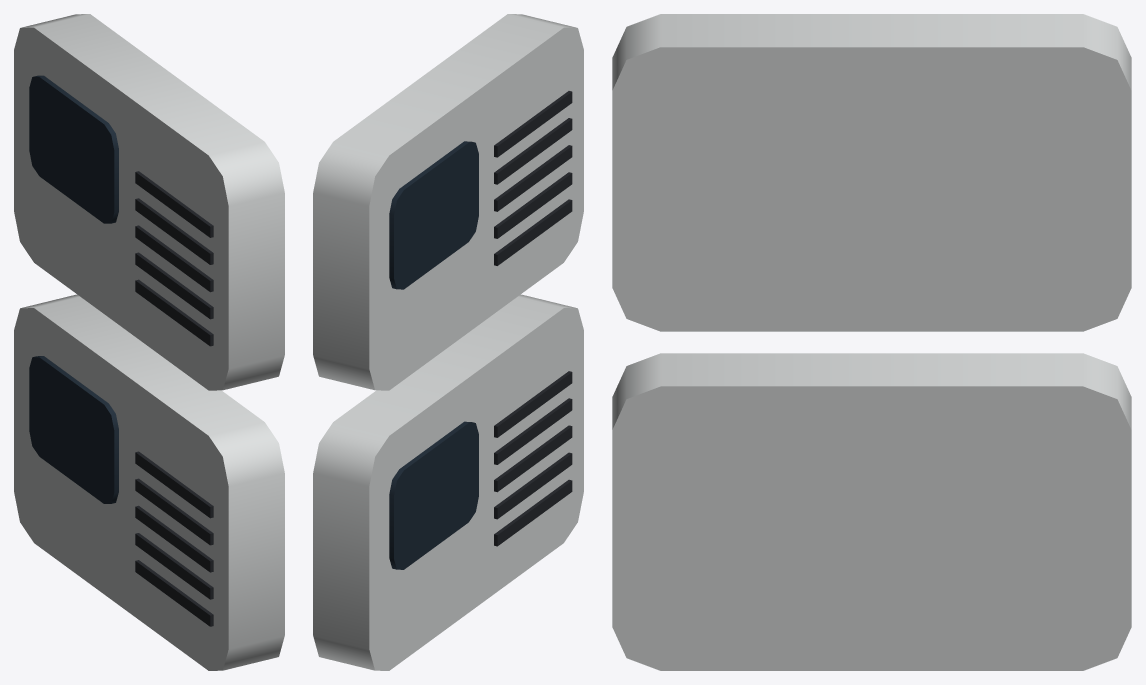
The model's file is mo4_steril.obj.
The picture shows the model from 3 angles, left to right: view 1: azimuth 30°, elevation 25°; view 2: azimuth 150°, elevation 25°; view 3: azimuth 270°, elevation 25°; orthographic projection. The views are drawn at different scales.
Visible parts, largest first — view 1: mo4_steril; view 2: mo4_steril; view 3: mo4_steril.
Boxes of the visible parts, left/top/right/bottom form: mo4_steril: left=14, top=14, right=284, bottom=670; mo4_steril: left=313, top=14, right=583, bottom=670; mo4_steril: left=612, top=14, right=1131, bottom=670.
Size of the model in its own units: 0.141 by 1.14 by 0.86.
